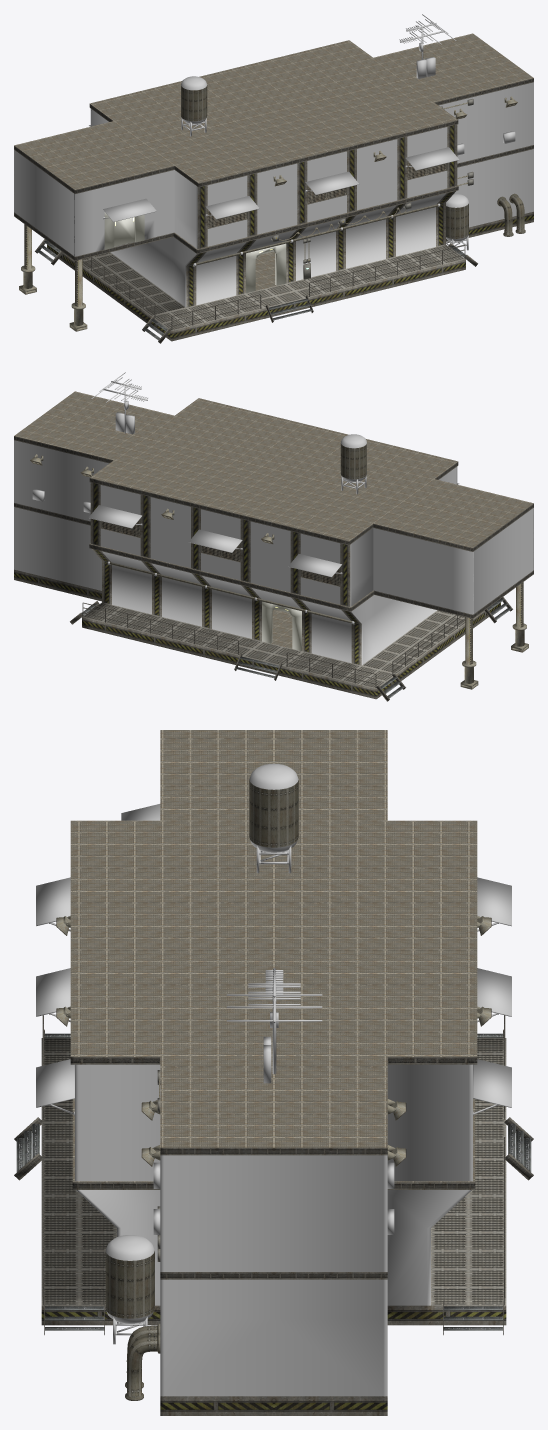
The model's file is building3.fbx.
3 views of the same model, one above another, from view 1: azimuth 30°, elevation 25°; view 2: azimuth 150°, elevation 25°; view 3: azimuth 270°, elevation 25° (orthographic). The views are drawn at different scales.
Parts seen in each view (by area): view 1: Mesh; view 2: Mesh; view 3: Mesh.
Boxes of the visible parts, bbox=[...] form: Mesh: bbox=[14, 14, 533, 343]; Mesh: bbox=[14, 372, 533, 701]; Mesh: bbox=[14, 730, 533, 1415].
Bounding box in the file's own units: 2302 × 942 × 1212.
